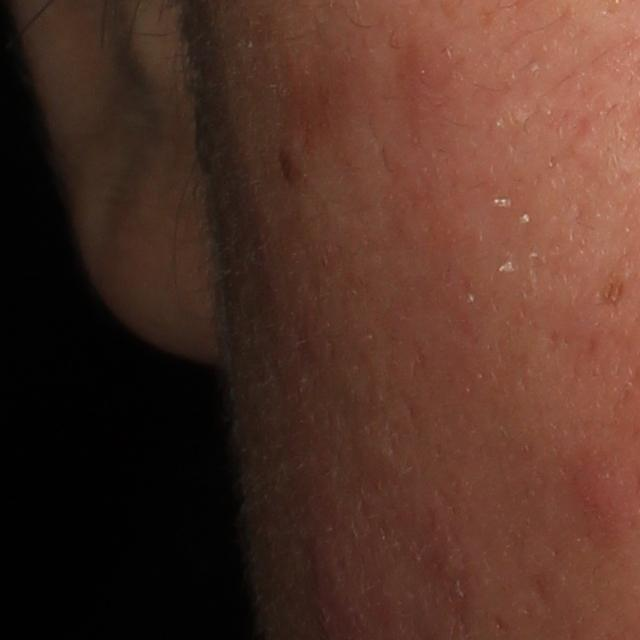nevus: (278, 141, 305, 194)
papule: (572, 446, 639, 558)
